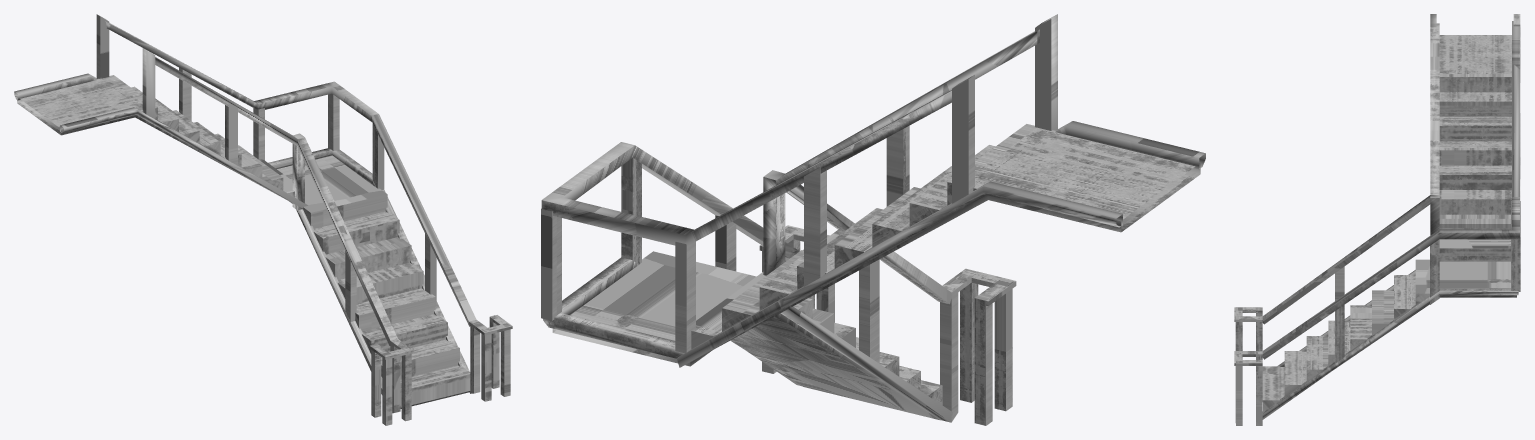
Rendered from Stairway_2.fbx.
The picture shows the model from 3 angles, left to right: view 1: azimuth 30°, elevation 25°; view 2: azimuth 150°, elevation 25°; view 3: azimuth 270°, elevation 25°; orthographic projection. The views are drawn at different scales.
Visible parts, largest first — view 1: Stairway_1_002.003, Stairway_1_002.002, Stairway_1_002.001, Stairway_1_002.004; view 2: Stairway_1_002.002, Stairway_1_002.001, Stairway_1_002.004, Stairway_1_002.003; view 3: Stairway_1_002.002, Stairway_1_002.001, Stairway_1_002.003, Stairway_1_002.004.
Boxes of the visible parts, left/top/right/bottom form: Stairway_1_002.003: left=277, top=155, right=470, bottom=408; Stairway_1_002.002: left=14, top=14, right=307, bottom=208; Stairway_1_002.001: left=105, top=21, right=512, bottom=401; Stairway_1_002.004: left=155, top=57, right=413, bottom=425; Stairway_1_002.002: left=677, top=14, right=1205, bottom=367; Stairway_1_002.001: left=541, top=90, right=951, bottom=386; Stairway_1_002.004: left=763, top=29, right=1039, bottom=425; Stairway_1_002.003: left=552, top=251, right=942, bottom=420; Stairway_1_002.002: left=1430, top=14, right=1520, bottom=261; Stairway_1_002.001: left=1234, top=21, right=1520, bottom=425; Stairway_1_002.003: left=1262, top=259, right=1516, bottom=411; Stairway_1_002.004: left=1234, top=23, right=1439, bottom=366.
Bounding box in the file's own units: 8.98 × 8.36 × 7.2.
